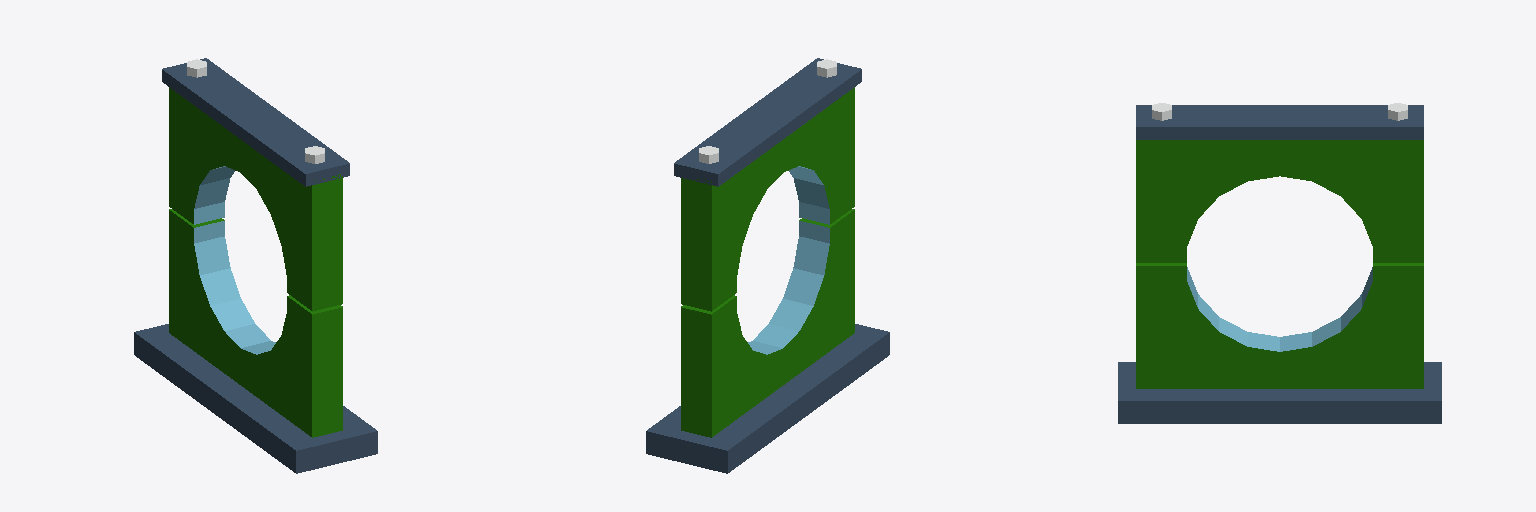
Rendered from clamp_square.obj.
3 views of the same model, side by side, from view 1: azimuth 30°, elevation 25°; view 2: azimuth 150°, elevation 25°; view 3: azimuth 270°, elevation 25° (orthographic).
Parts seen in each view (by area): view 1: ___, ___.1, __; view 2: ___, ___.1, __; view 3: ___, ___.1, __.
Part boxes in pixels (bbox=[...]): ___: bbox=[162, 58, 349, 437]; ___.1: bbox=[134, 324, 377, 473]; __: bbox=[194, 146, 324, 354]; ___: bbox=[674, 58, 861, 437]; ___.1: bbox=[646, 324, 889, 473]; __: bbox=[748, 59, 836, 354]; ___: bbox=[1136, 105, 1423, 388]; ___.1: bbox=[1118, 362, 1441, 423]; __: bbox=[1152, 103, 1372, 351].
Bounding box in the file's own units: 40.25 × 140 × 139.